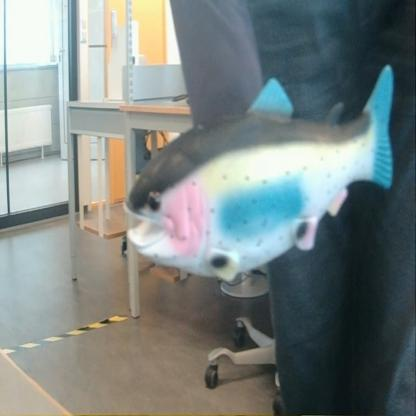rubberfish: (122, 62, 400, 285)
